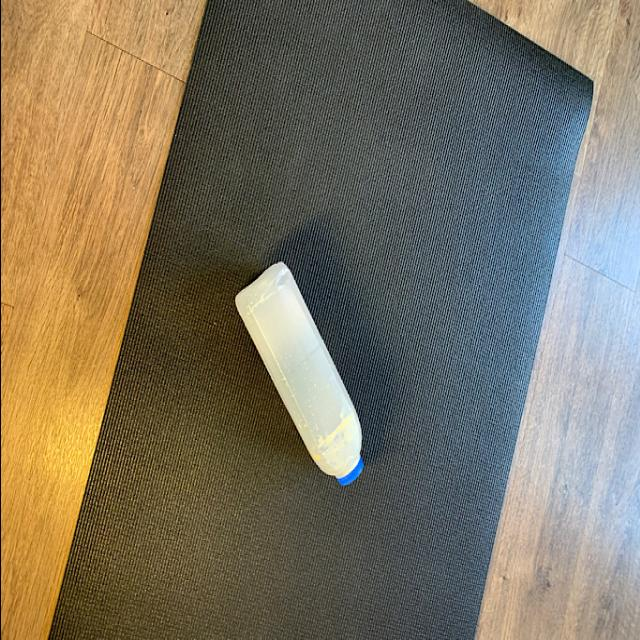litter: (234, 250, 364, 489)
